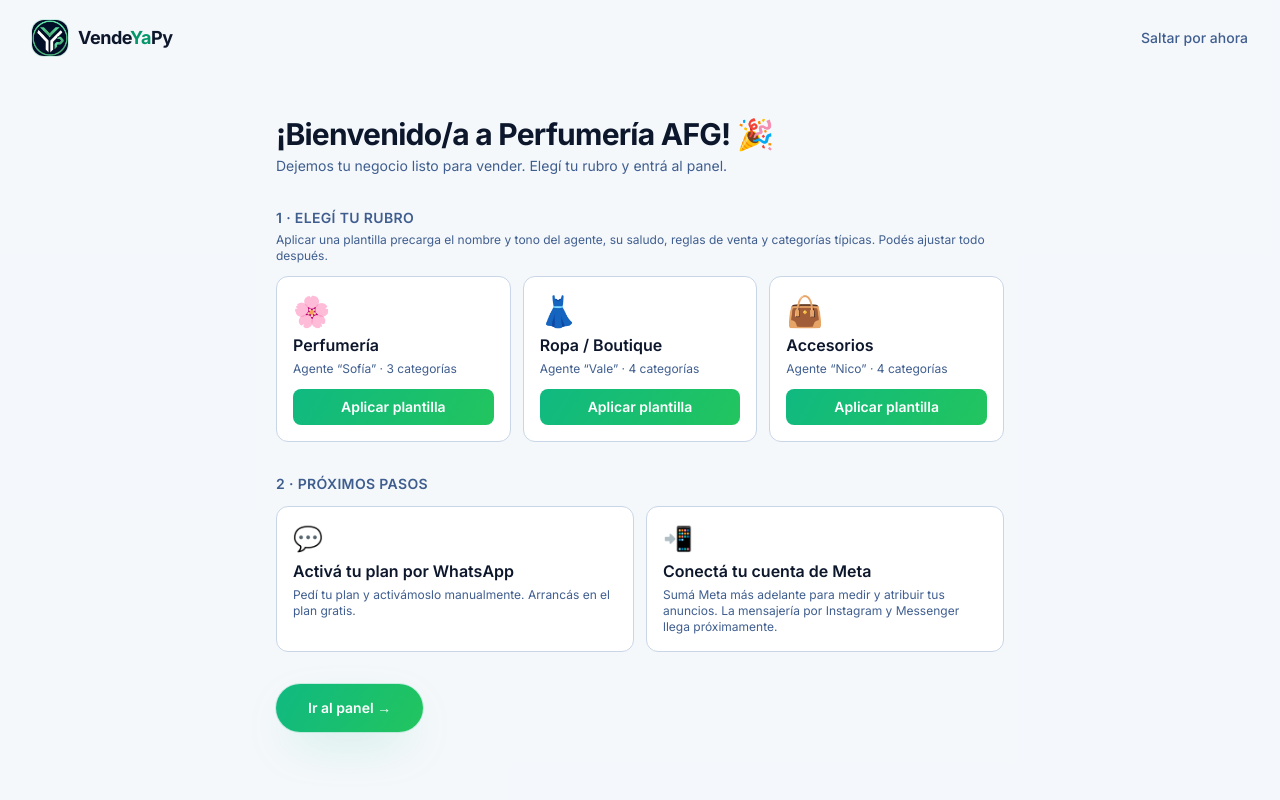
H-39 · aplicar la plantilla no falla en silencio › NO REGRESIÓN: si aplica bien, marca «✓ Aplicada» y no muestra error
Click the button "Aplicar plantilla" below "Sofía" at (393,407), box [293,389,494,425]
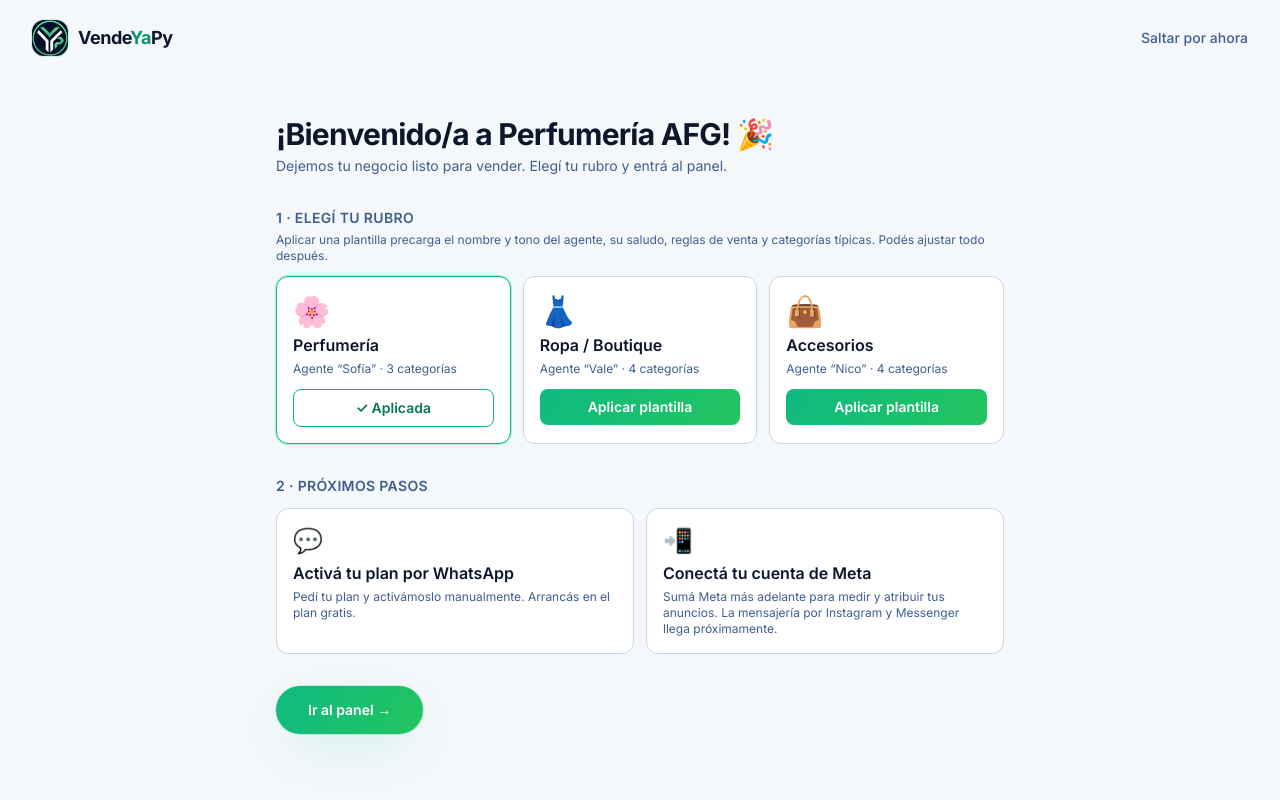
Expected: the button "✓ Aplicada" is shown, [293,389,494,427]
